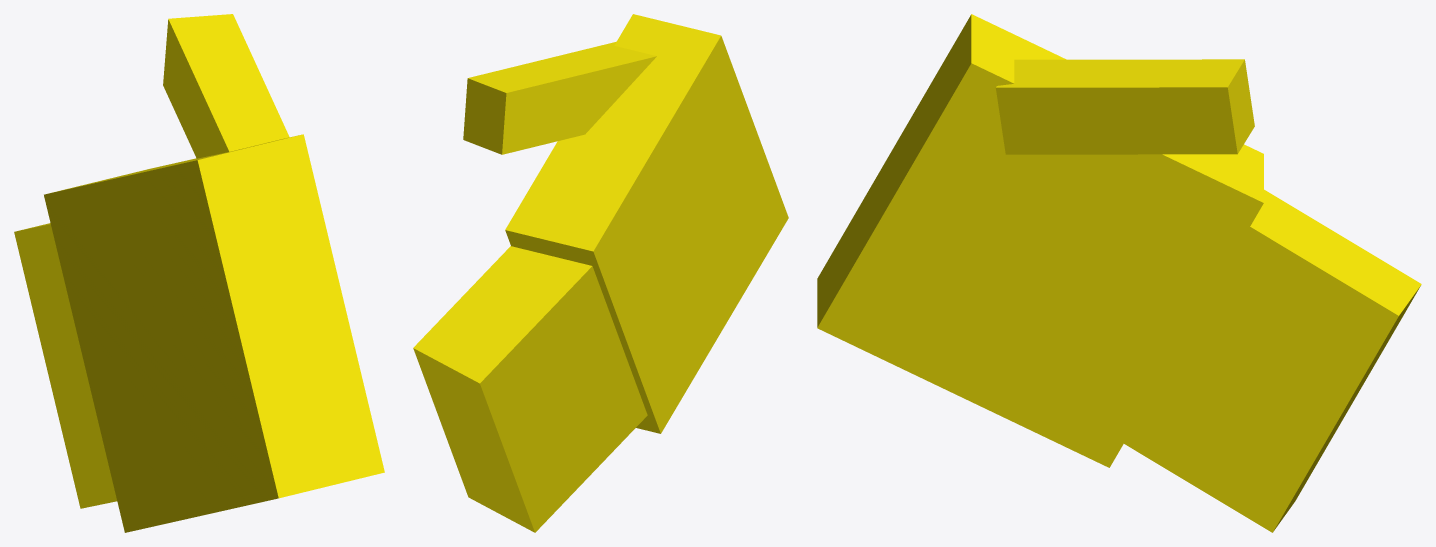
Rendered from hand_l_open.glb.
The picture shows the model from 3 angles, left to right: view 1: azimuth 30°, elevation 25°; view 2: azimuth 150°, elevation 25°; view 3: azimuth 270°, elevation 25°; orthographic projection. The views are drawn at different scales.
Parts seen in each view (by area): view 1: Cube, Cube.001, Cube.002; view 2: Cube, Cube.002, Cube.001; view 3: Cube, Cube.002, Cube.001.
Part boxes in pixels (x1,y1,x2,y2): Cube: (44,134,384,532); Cube.001: (163,14,289,158); Cube.002: (14,223,116,508); Cube: (505,14,788,433); Cube.002: (413,246,647,532); Cube.001: (463,41,656,154); Cube: (817,14,1263,467); Cube.002: (1122,189,1421,532); Cube.001: (996,59,1254,154).
Size of the model in its own units: 1.13 by 3.14 by 3.66.
